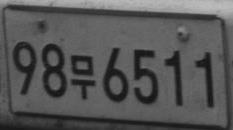1: (161, 49, 189, 106), (192, 51, 219, 108)
5: (132, 48, 159, 105)
6: (101, 47, 129, 103)
8: (40, 42, 67, 98)
9: (11, 40, 37, 94)
무: (70, 54, 95, 100)
